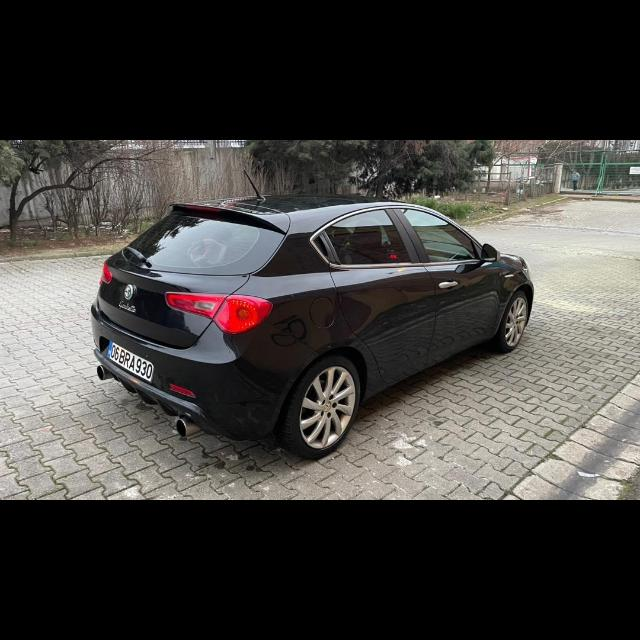Plaka: (110, 340, 156, 380)
